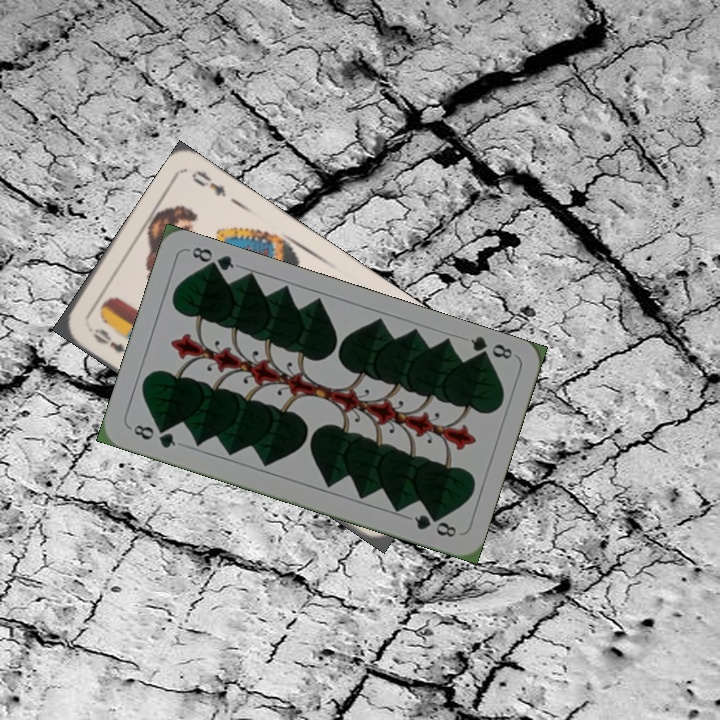EO: (88, 324, 128, 356)
G8: (126, 420, 178, 451), (466, 332, 515, 364)
